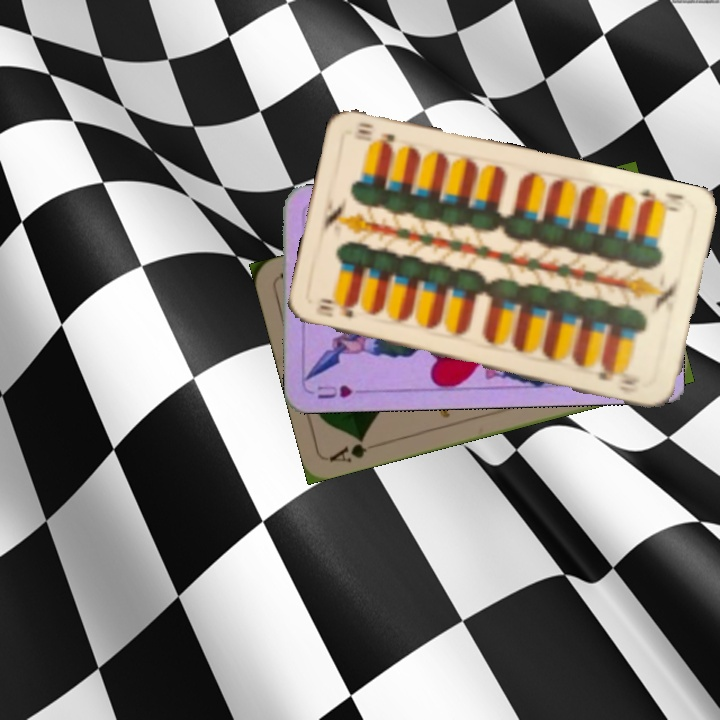E10: (634, 185, 687, 215), (311, 300, 356, 321)
GA: (326, 432, 370, 465)
HU: (313, 381, 355, 401)
